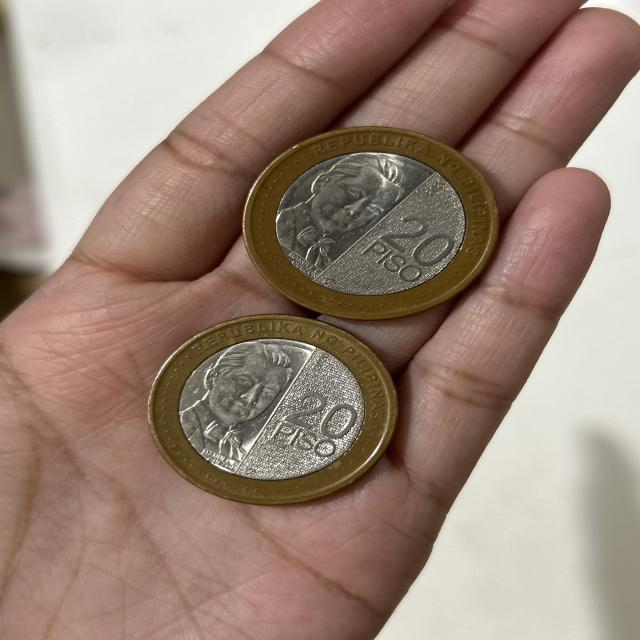20_New_Front: (266, 376, 358, 466), (365, 212, 450, 286)
